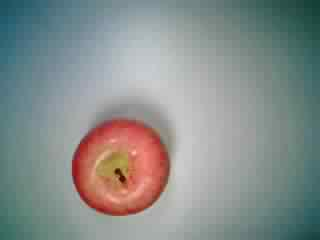apple: (70, 116, 174, 217)
